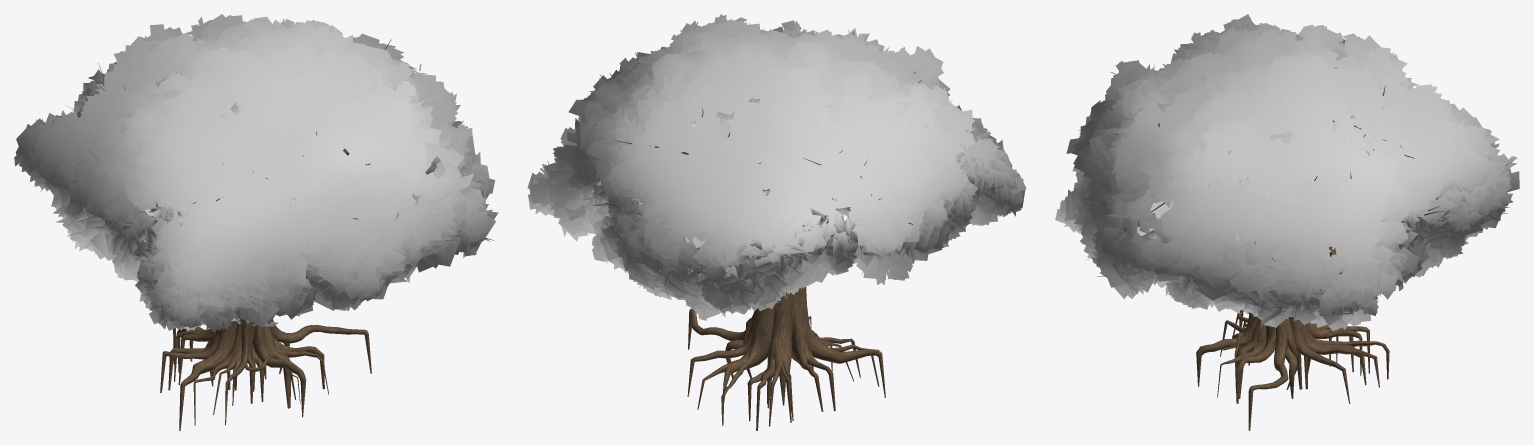
File: Tree_07.fbx
3 renders of one model, left to right at view 1: azimuth 30°, elevation 25°; view 2: azimuth 150°, elevation 25°; view 3: azimuth 270°, elevation 25°, orthographic. The views are drawn at different scales.
Visible parts, largest first — view 1: Tree_07_LOD0; view 2: Tree_07_LOD0; view 3: Tree_07_LOD0.
Part boxes in pixels (<box>): Tree_07_LOD0: <box>14,14,498,430</box>; Tree_07_LOD0: <box>527,14,1026,430</box>; Tree_07_LOD0: <box>1055,14,1519,430</box>.
Size of what is drawn, in the model's own units: 10.72 by 9.4 by 11.46.
